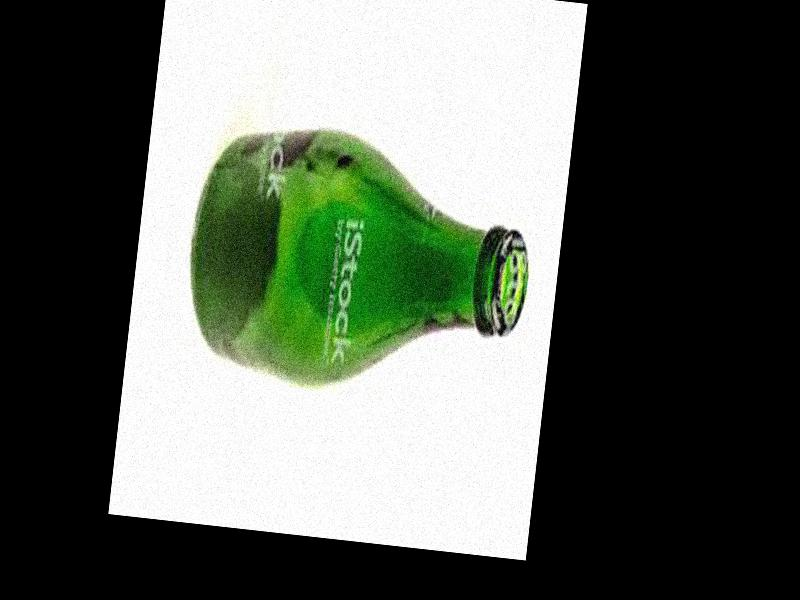Beer: (177, 114, 543, 409)
